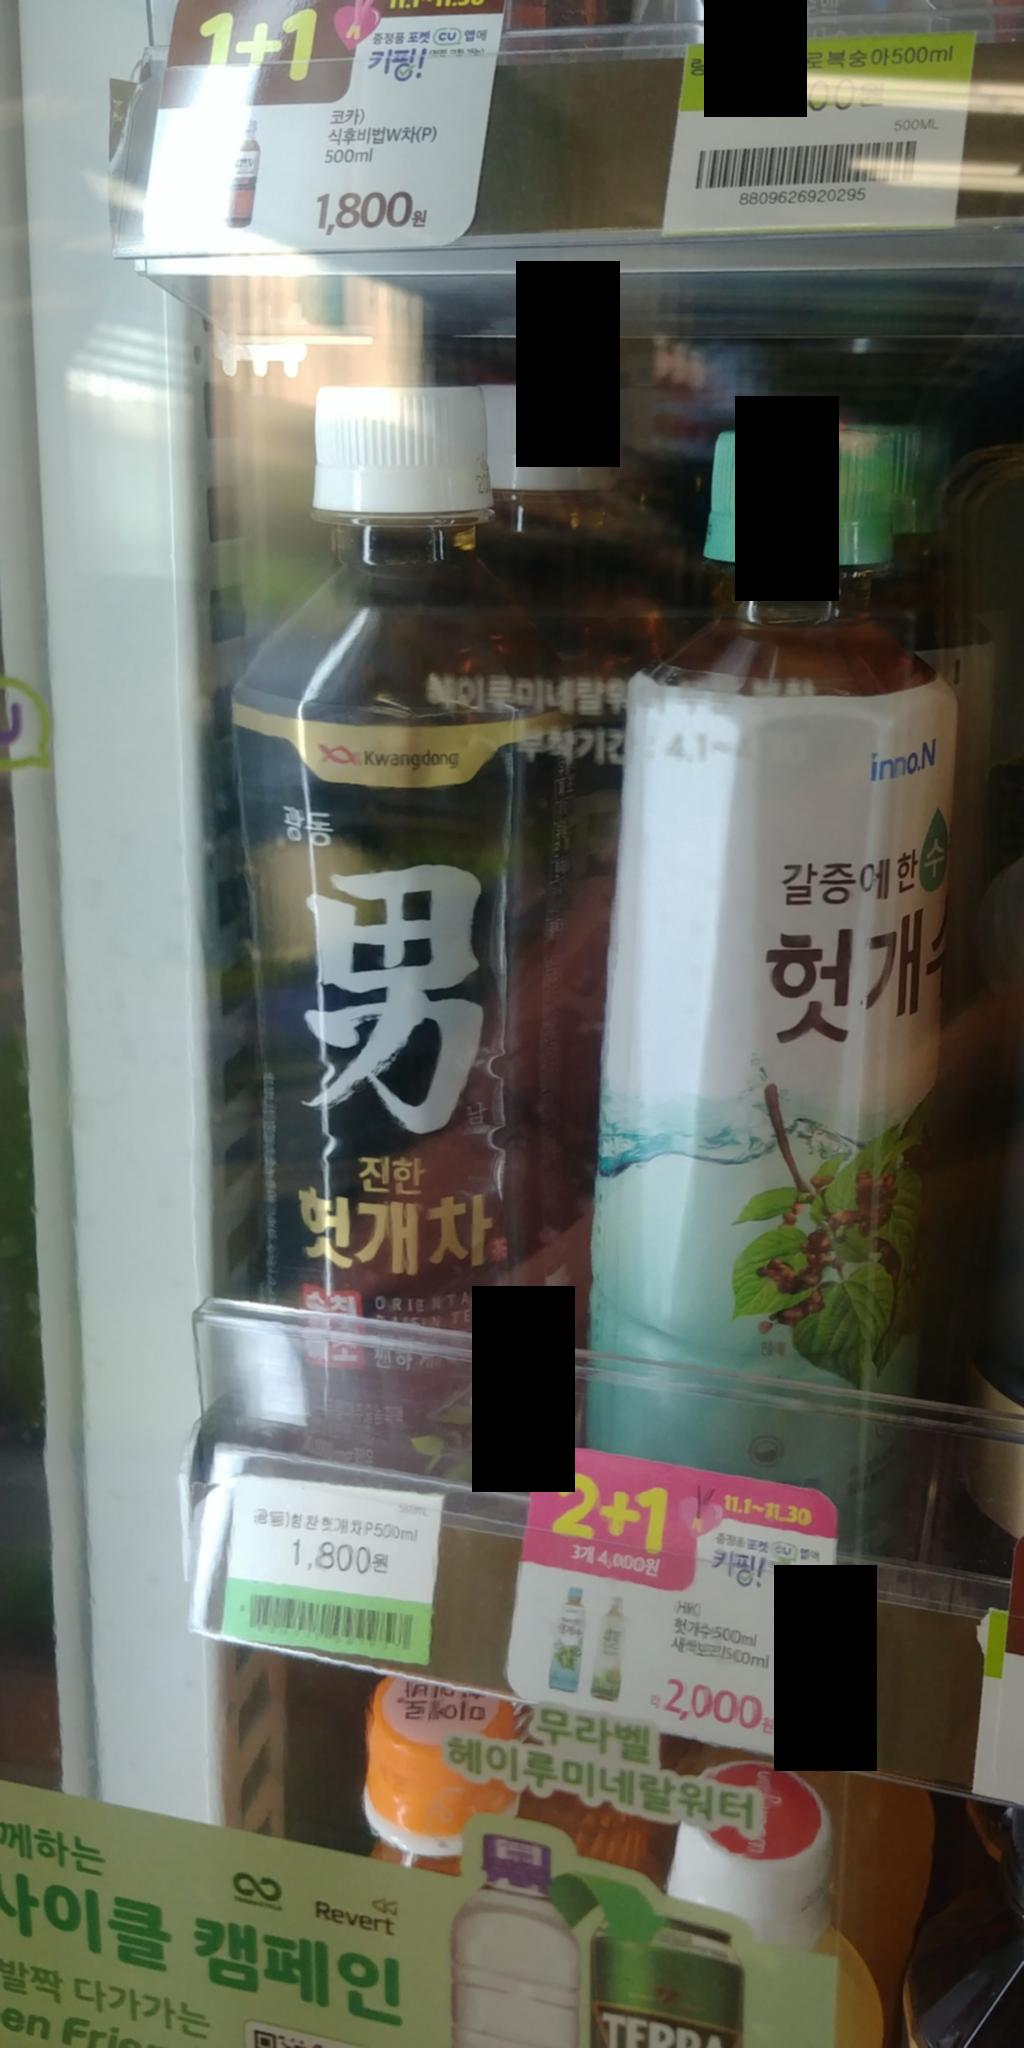heotgaecha: (197, 387, 580, 1502)
